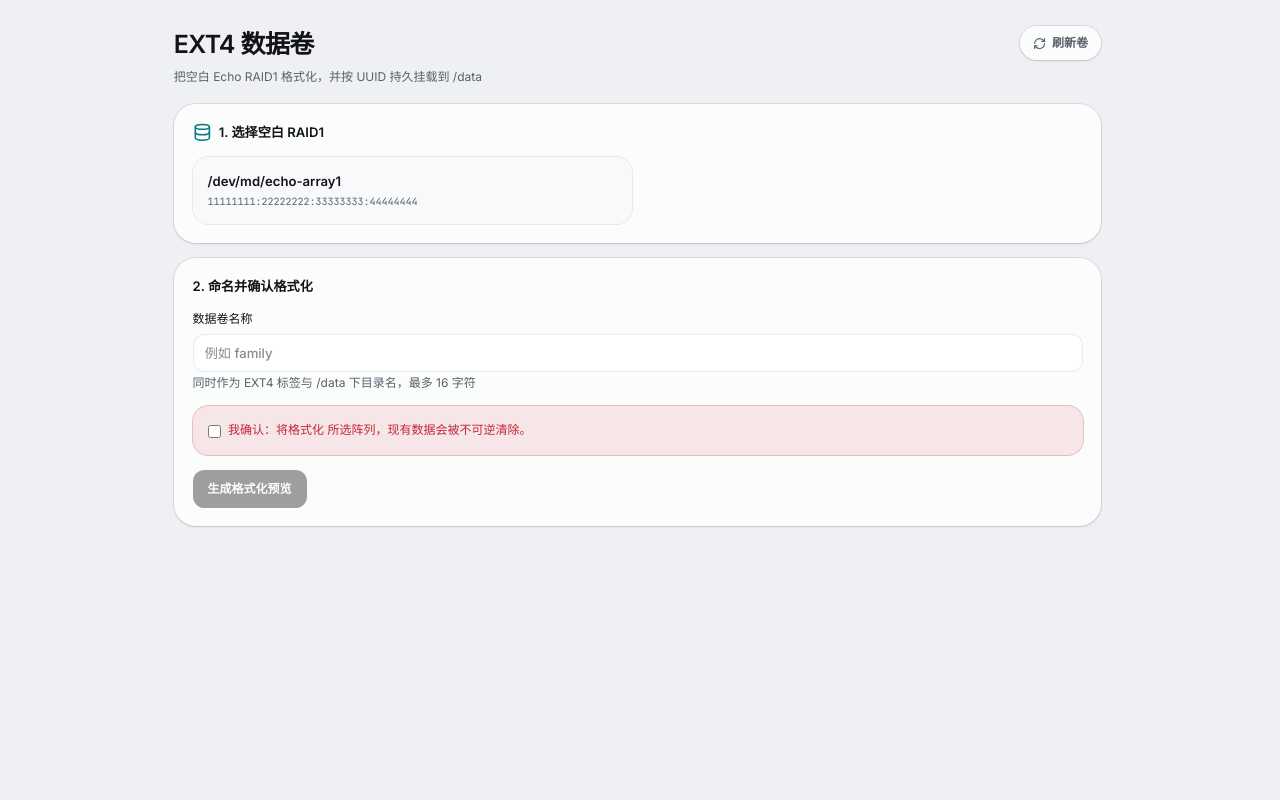
Test: EXT4 volume panel › runs managed-array selection, preview, step-up and mount
Click the button "/dev/md/echo-array1 11111111:22222222:33333333:44444444" at [274, 181], box x1=192 y1=157 x2=632 y2=224
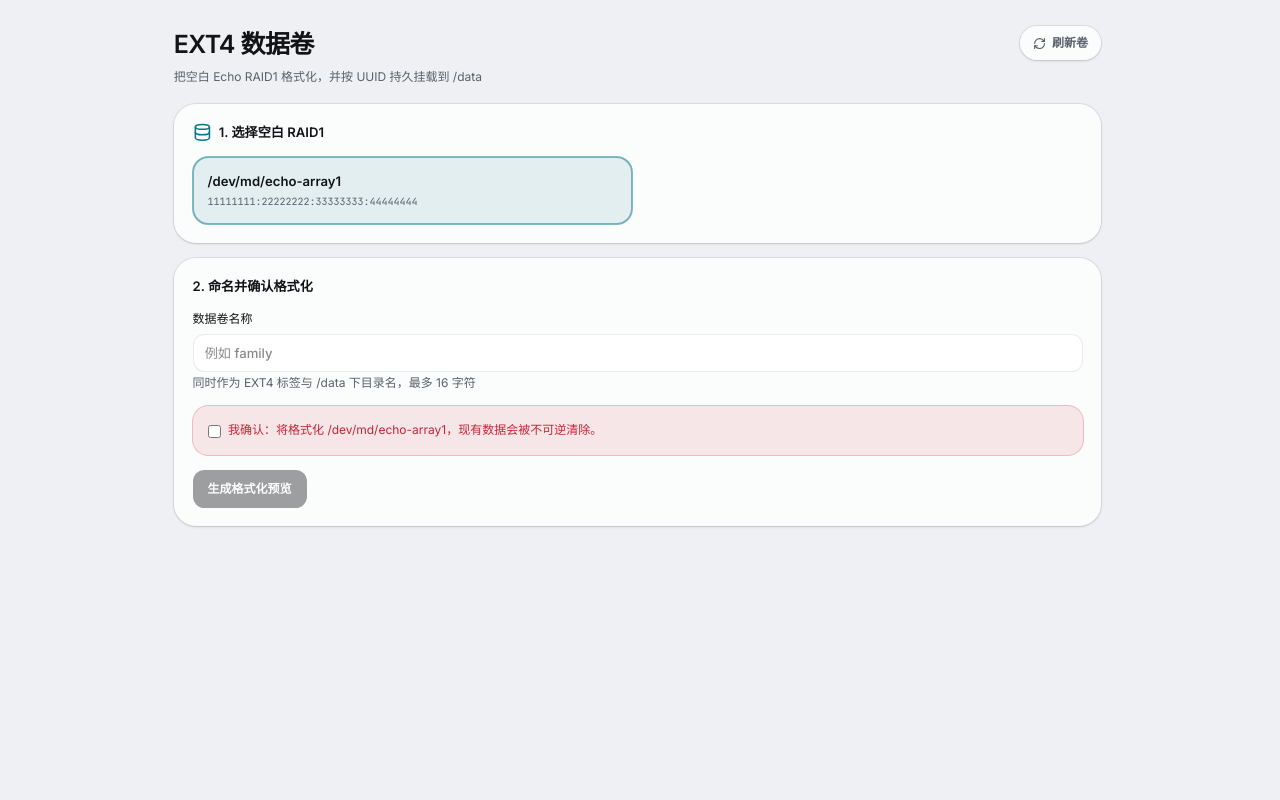
Type "family" into the field labelled "数据卷名称 同时作为 EXT4 标签与 /data 下目录名，最多 16 字符" at [638, 353], box x1=192 y1=334 x2=1082 y2=372
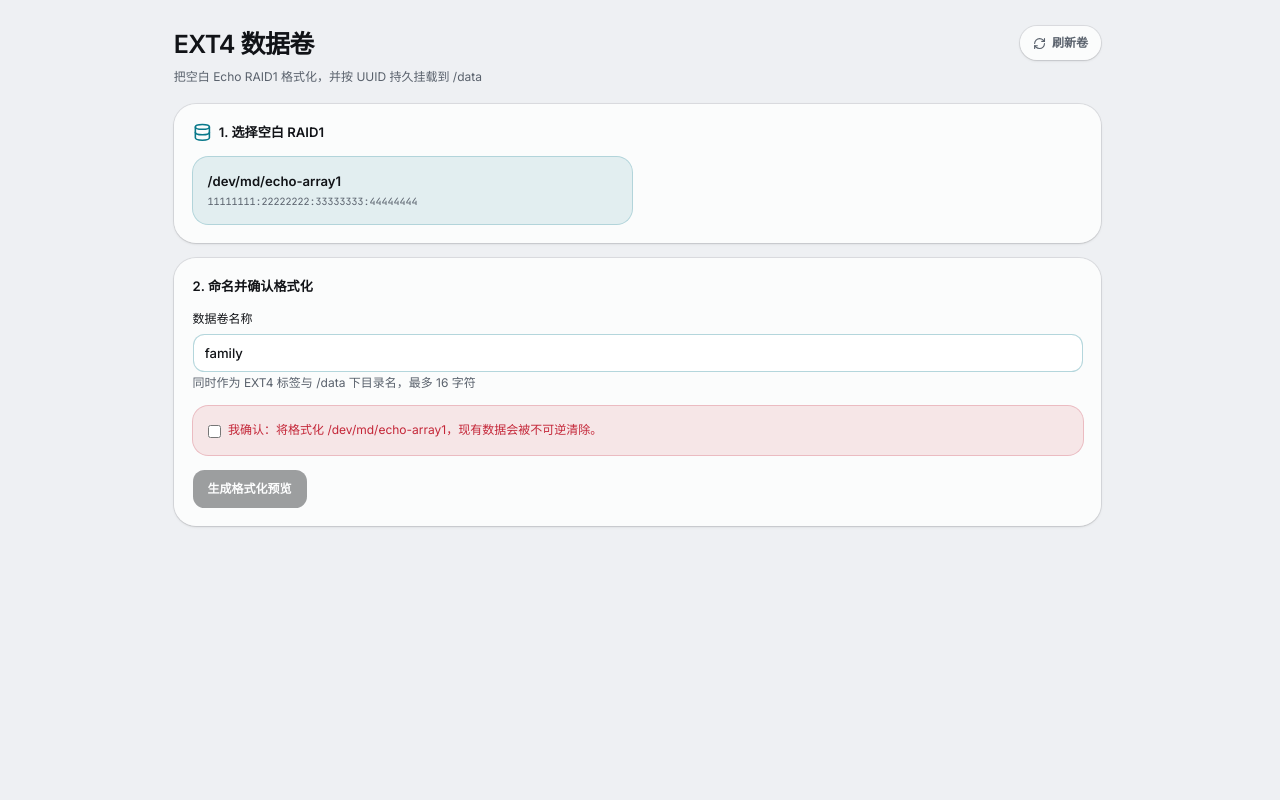
Click the checkbox at [214, 432], box x1=208 y1=425 x2=220 y2=438
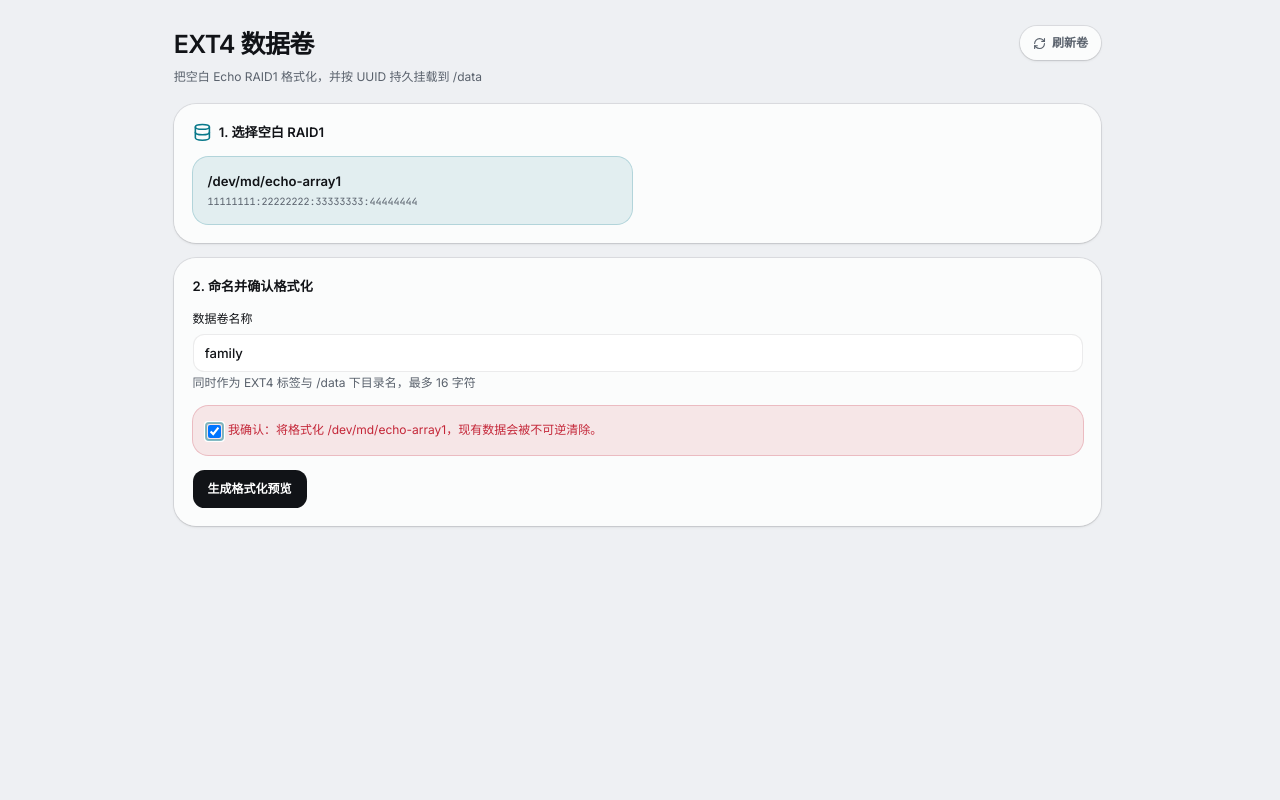
Click the button "生成格式化预览" at [250, 489], box x1=192 y1=470 x2=306 y2=508
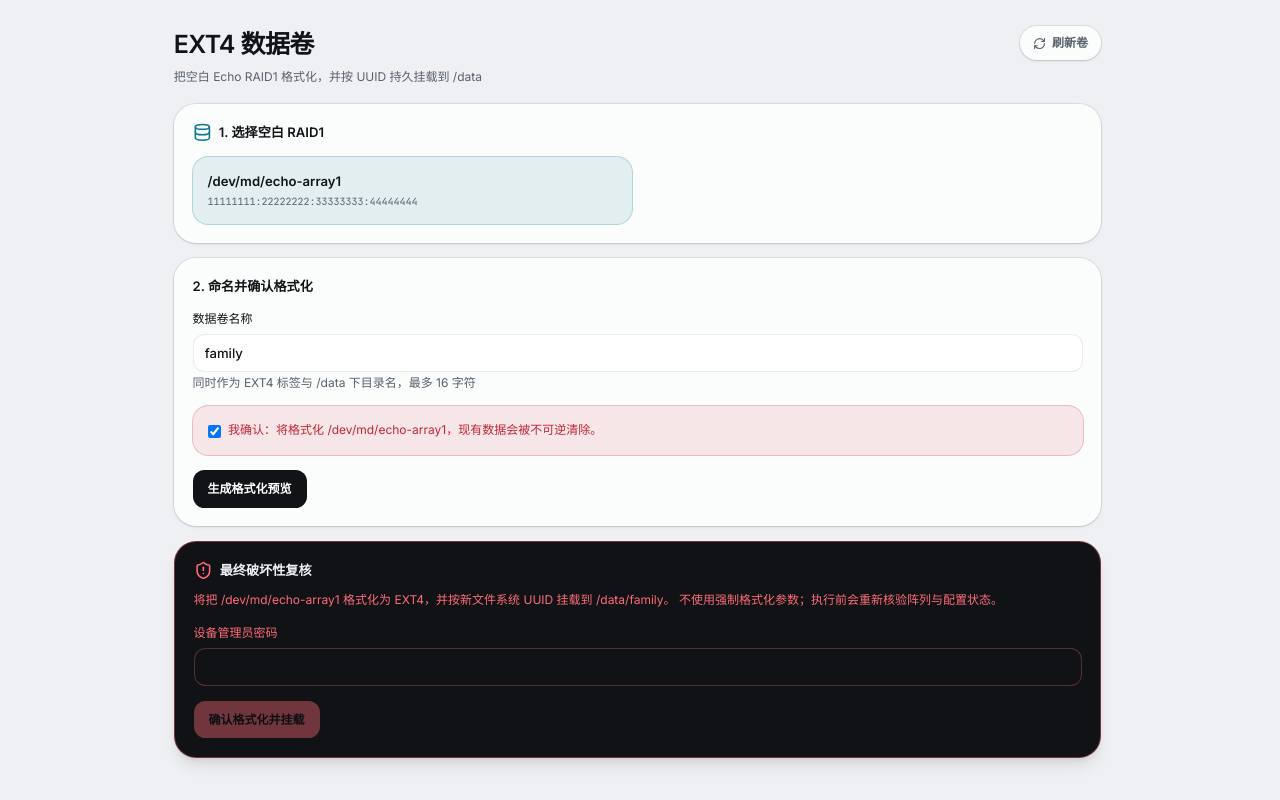
Expected: the text "按新文件系统 UUID 挂载到 /data/family" is shown, x1=194 y1=591 x2=1082 y2=610
Type "correct-password" into the password field labelled "设备管理员密码" at [638, 667], box x1=194 y1=648 x2=1082 y2=686
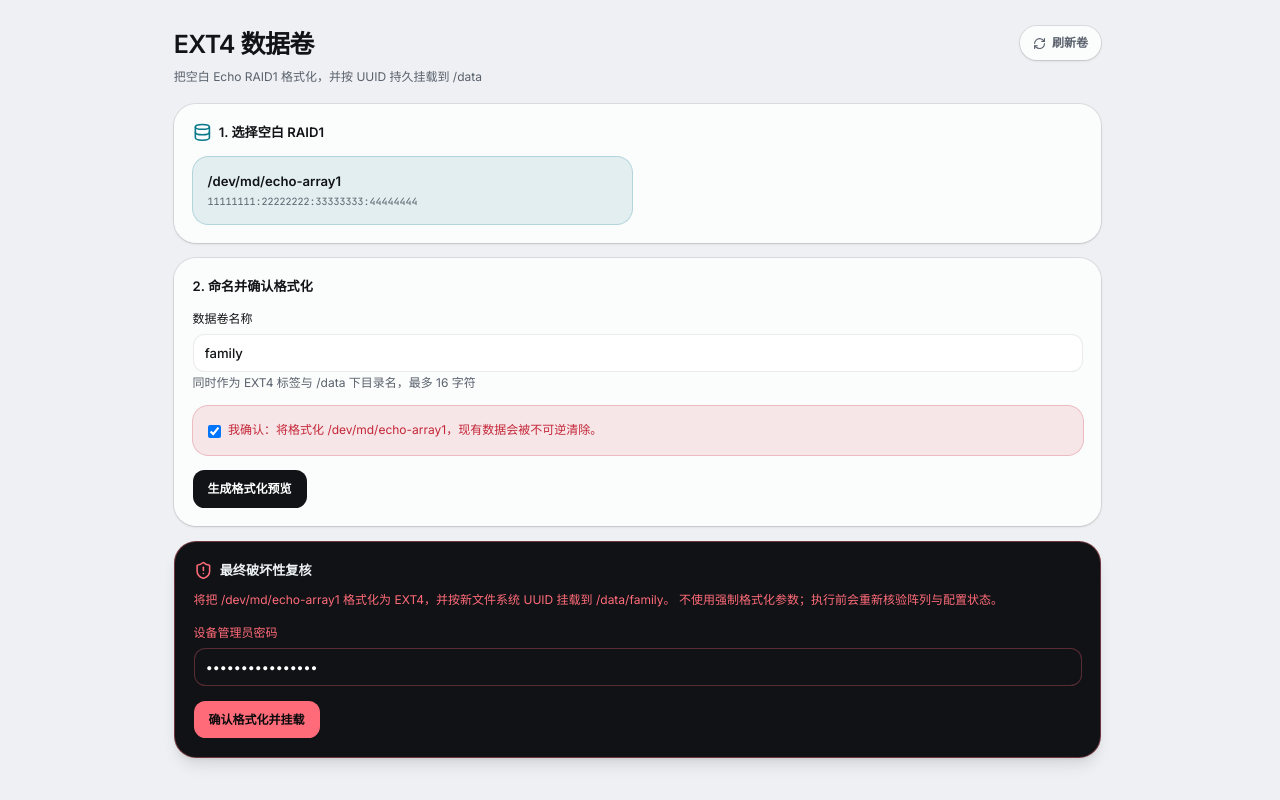
Click the button "确认格式化并挂载" at [256, 720], box x1=194 y1=701 x2=320 y2=738
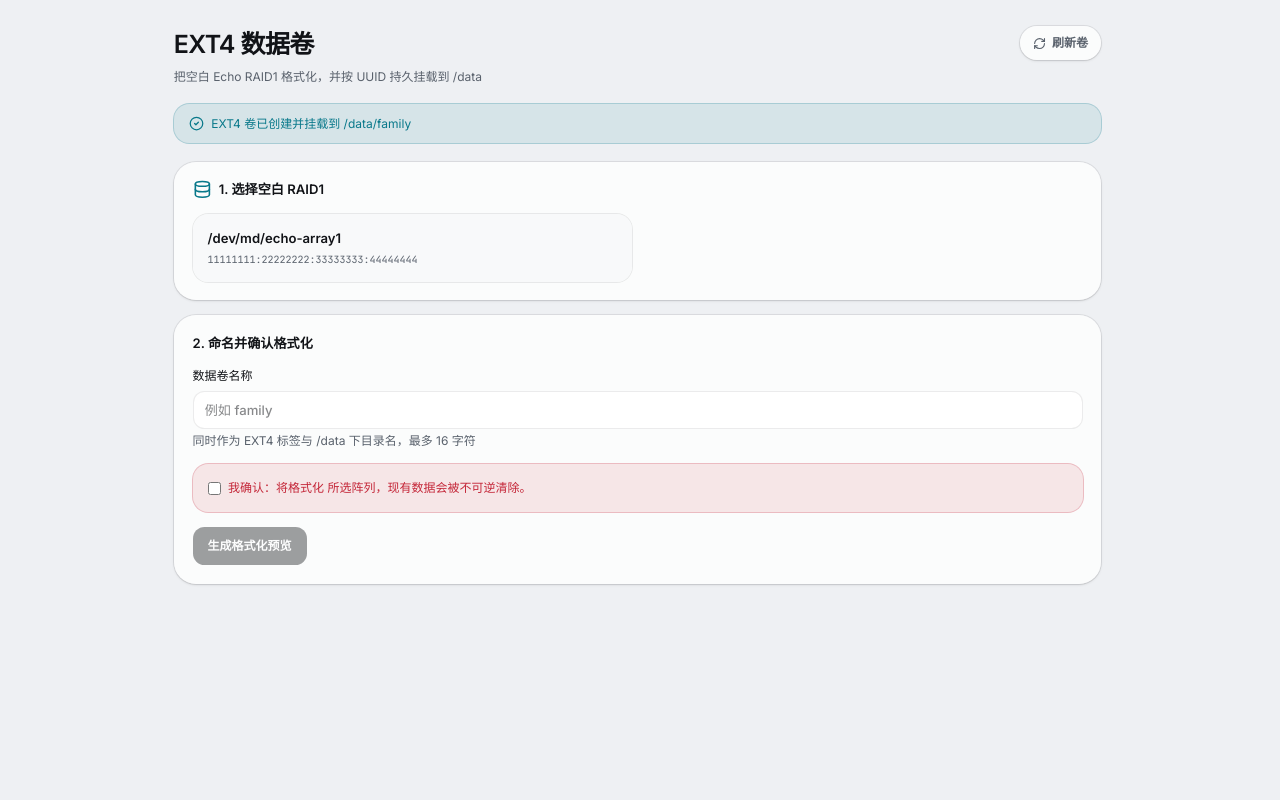
Expected: the text "EXT4 卷已创建并挂载到 /data/family" is shown, x1=174 y1=104 x2=1101 y2=143
